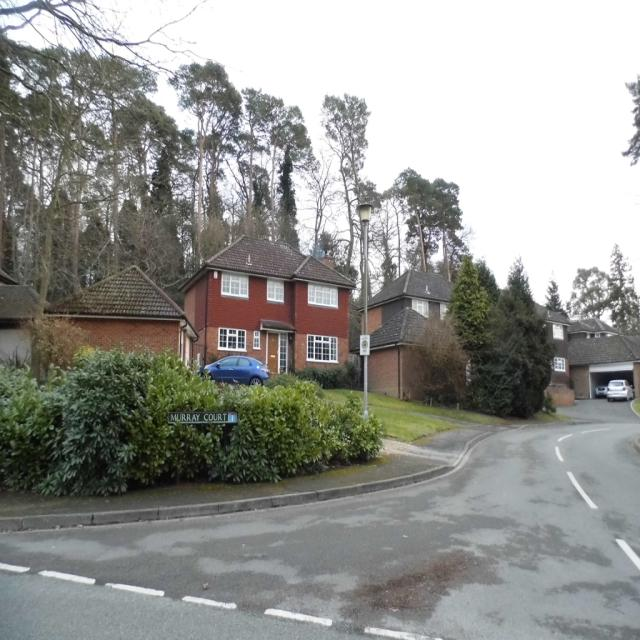car: (606, 380, 633, 399)
